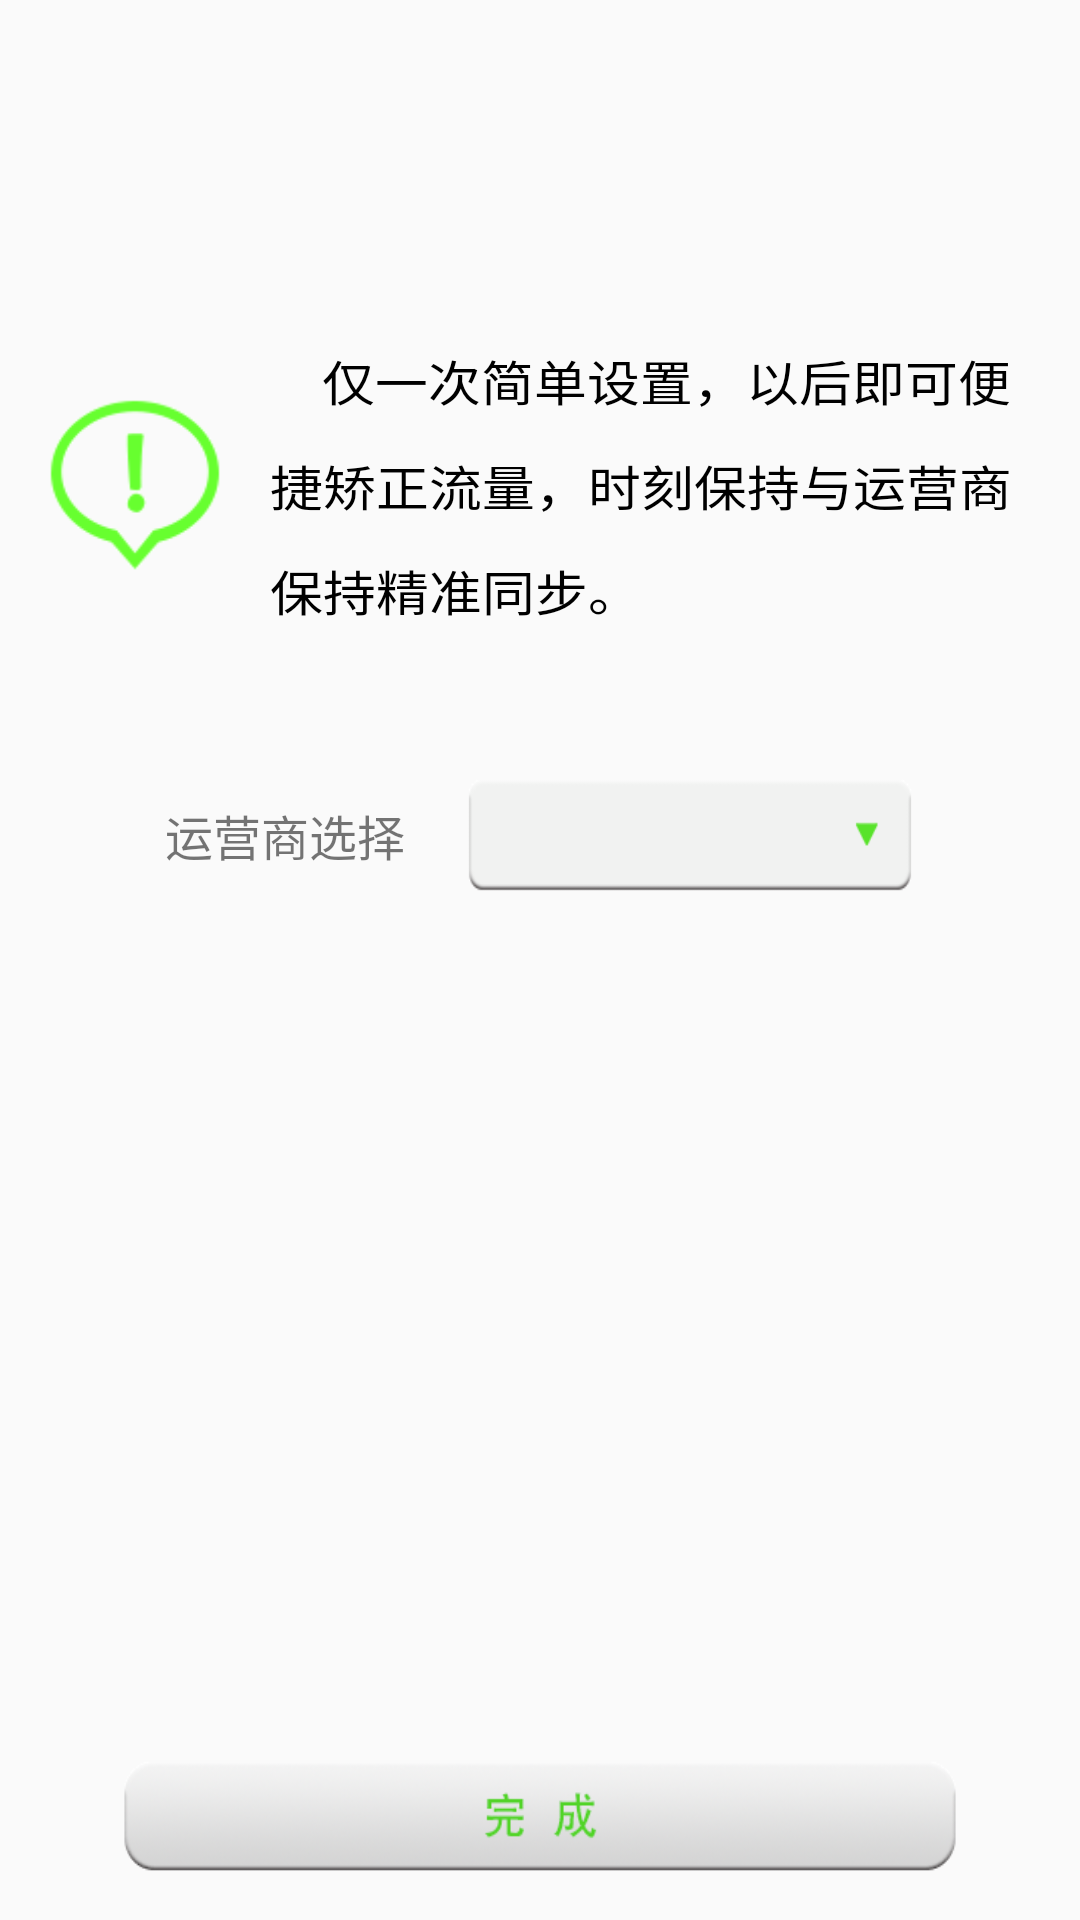

Icons on this 1080×1920 Android screen, each with its box as (x1, y1, x2, y2):
operator set info incon: (50, 400, 220, 569)
